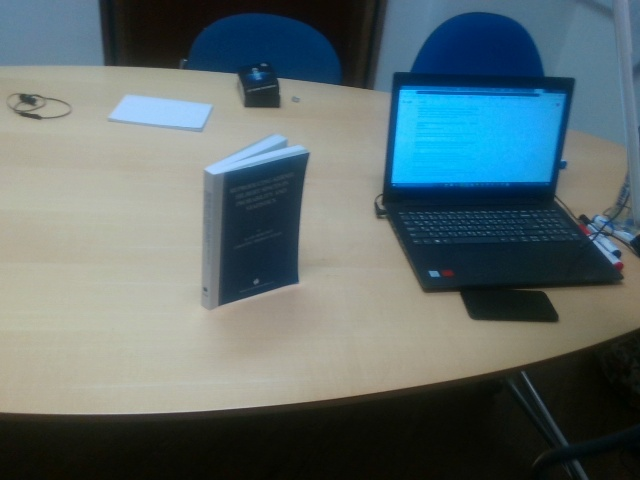book: (204, 168, 300, 284)
